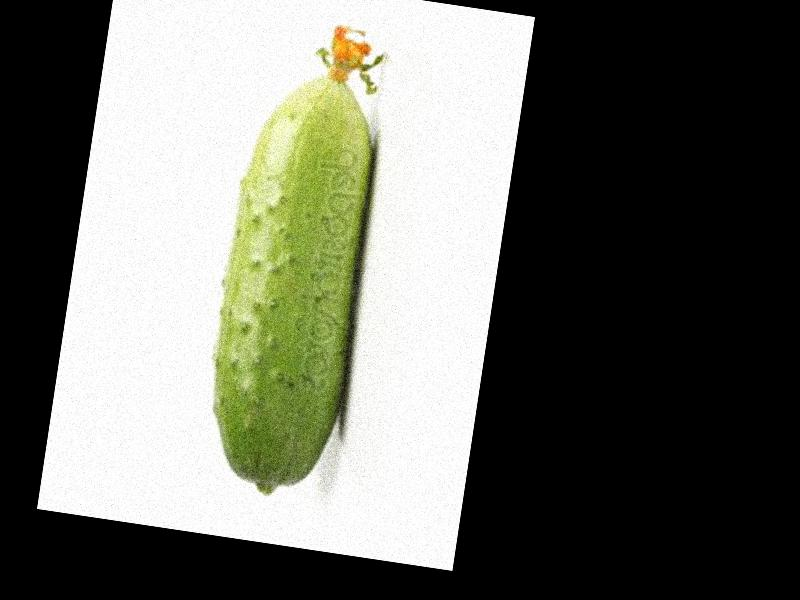Cucumber: (194, 16, 399, 505)
